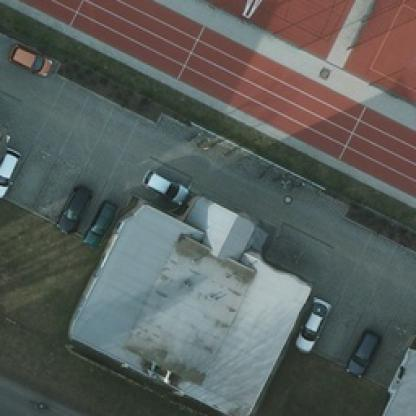car: (292, 294, 330, 353), (341, 320, 377, 382), (140, 170, 188, 204), (66, 174, 92, 231), (86, 194, 114, 245), (6, 41, 48, 74), (0, 146, 16, 196)
